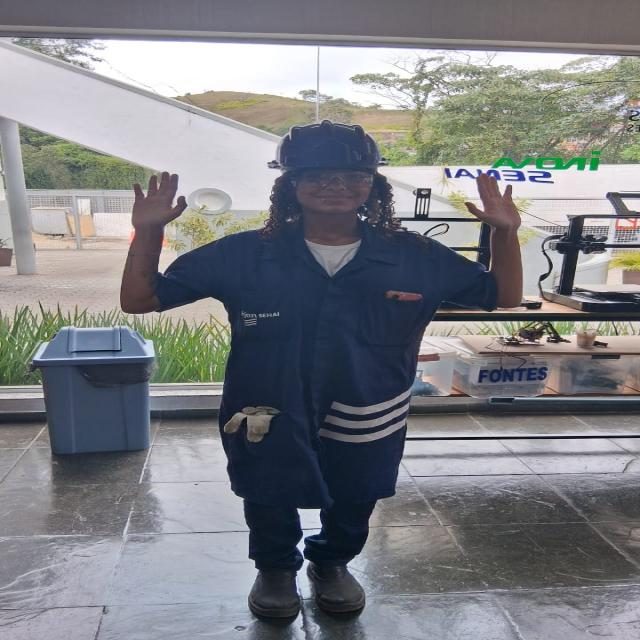BOTA: (314, 550, 379, 616), (248, 562, 302, 618)
CAPACETE: (258, 117, 398, 169)
JALECO: (149, 213, 500, 516)
OCULOS: (278, 173, 376, 192)
SEM LUVA: (461, 170, 531, 234), (129, 172, 186, 230)
